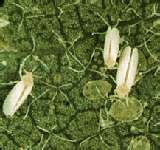whitefly: (1, 61, 43, 118), (105, 45, 141, 103), (95, 18, 127, 67)
